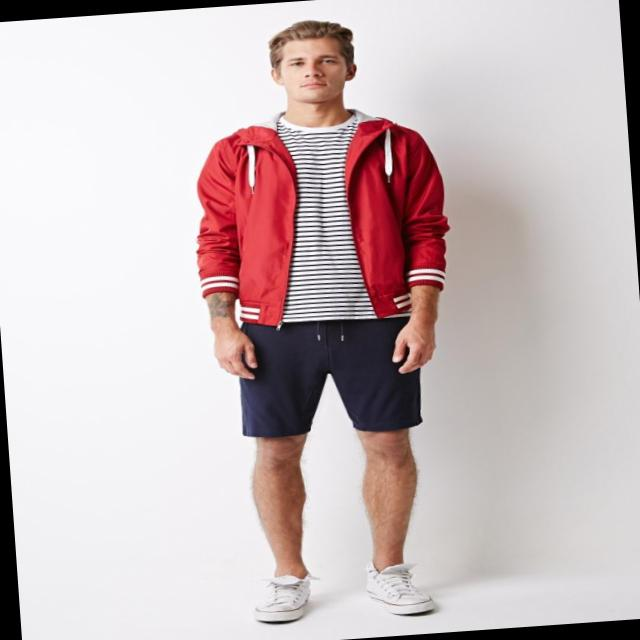Jacket: (180, 96, 462, 329)
